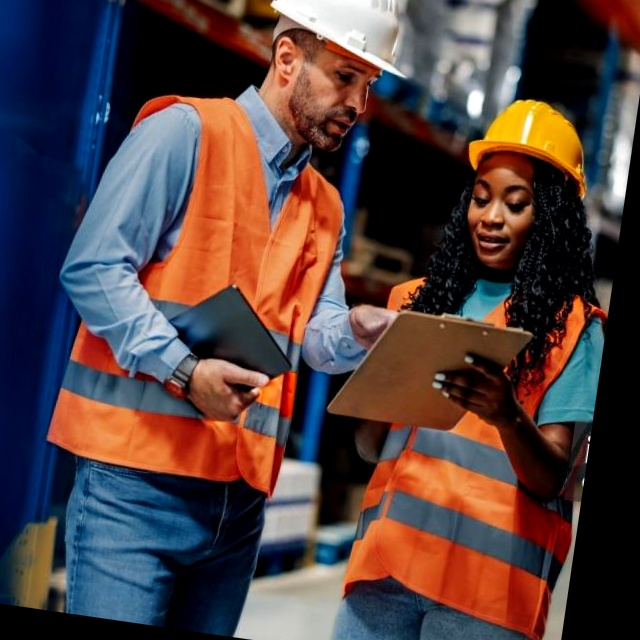Con_Casco: (254, 0, 422, 150)
Con_Chaleco: (70, 88, 352, 491), (339, 266, 607, 640)
